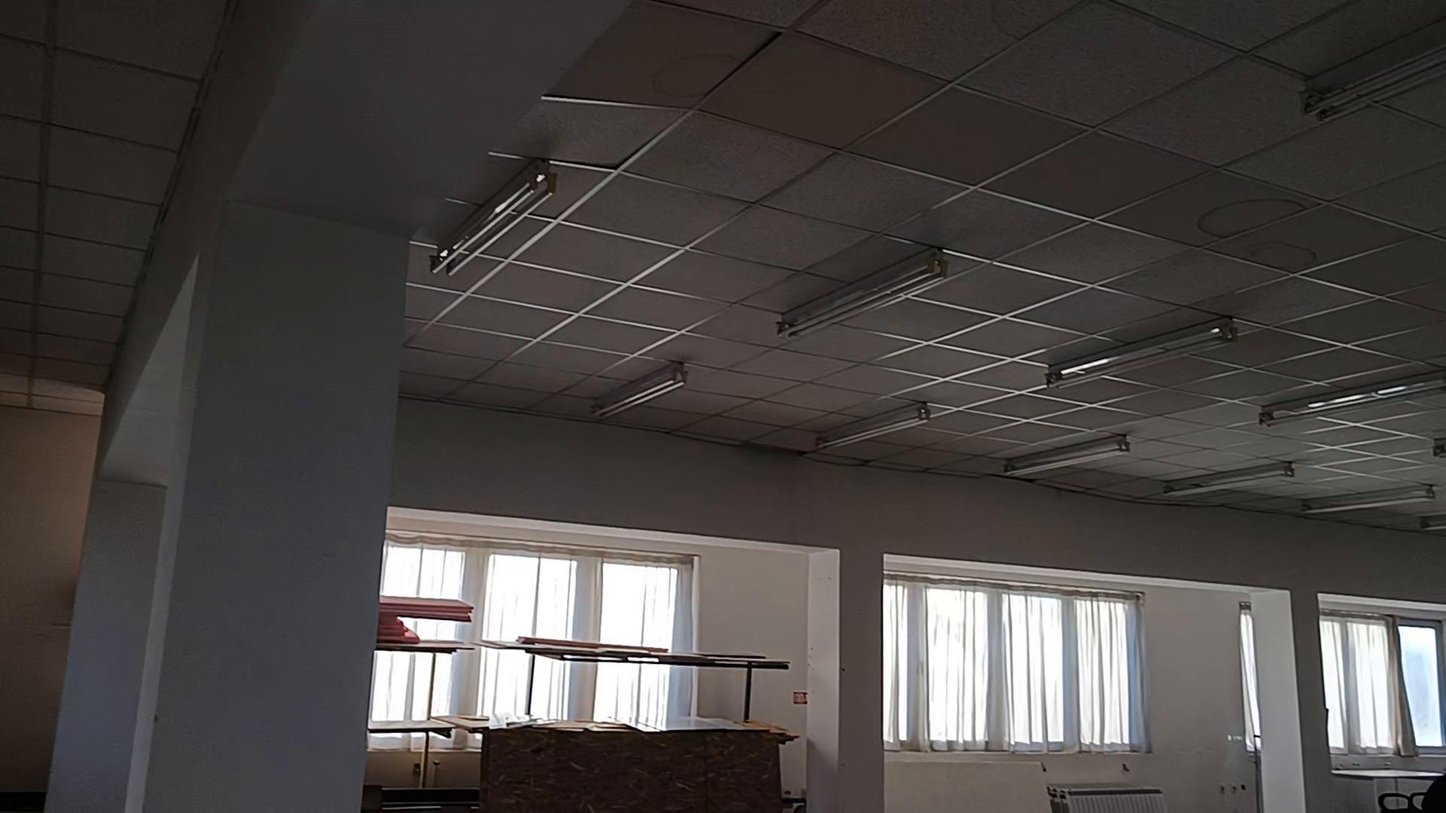ceiling: (401, 0, 1445, 531), (0, 0, 226, 406)
wall: (5, 5, 1443, 812)
